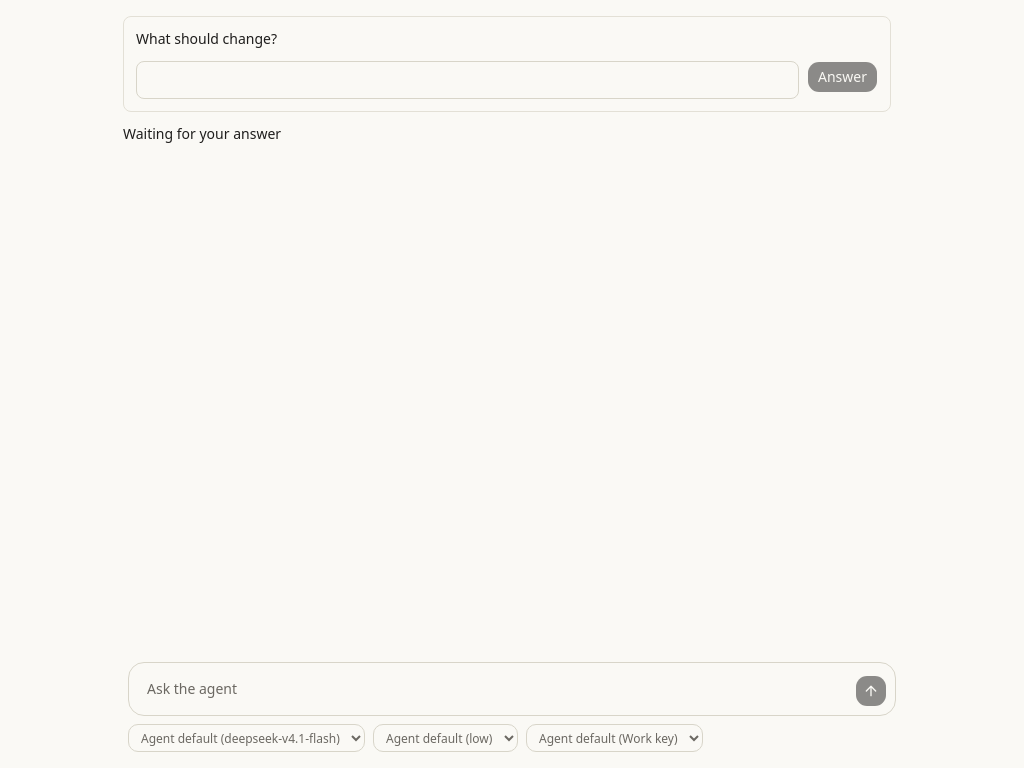
ChatPane › submits free text to the answer route and shows a send error inline
Expected: the text "What should change?" is shown, [136, 29, 277, 48]
Type "Keep the current behavior" into the field named "Your answer" at (468, 80), box [136, 61, 799, 99]
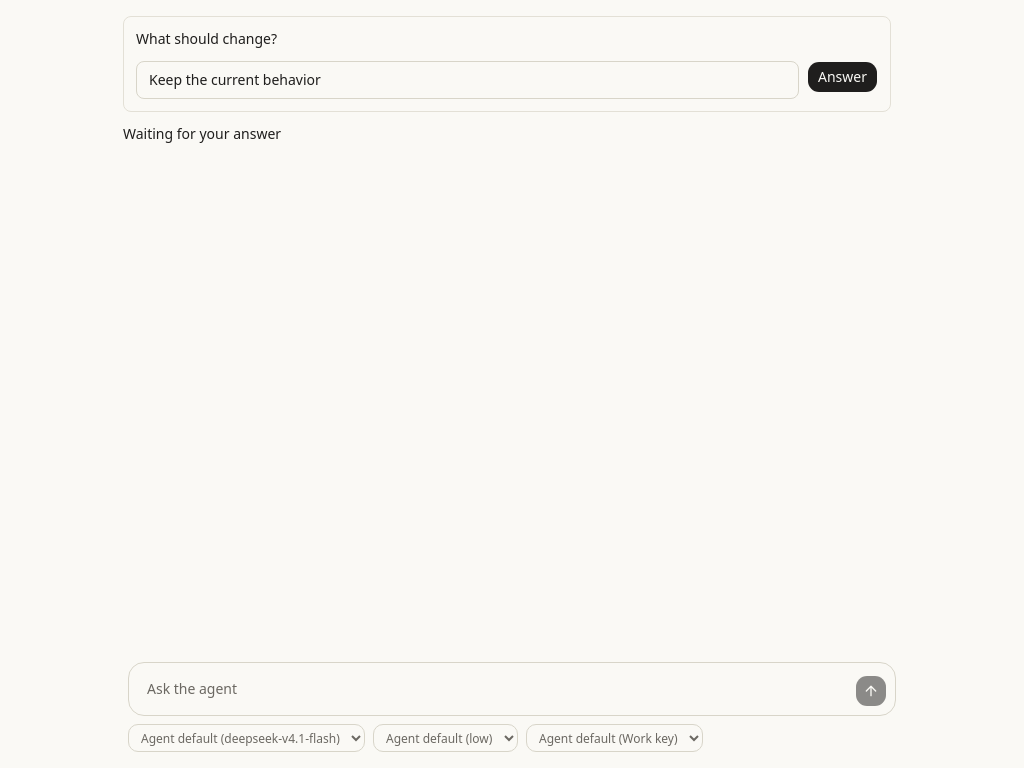
Click the button "Answer" at (842, 77), box [807, 61, 878, 93]
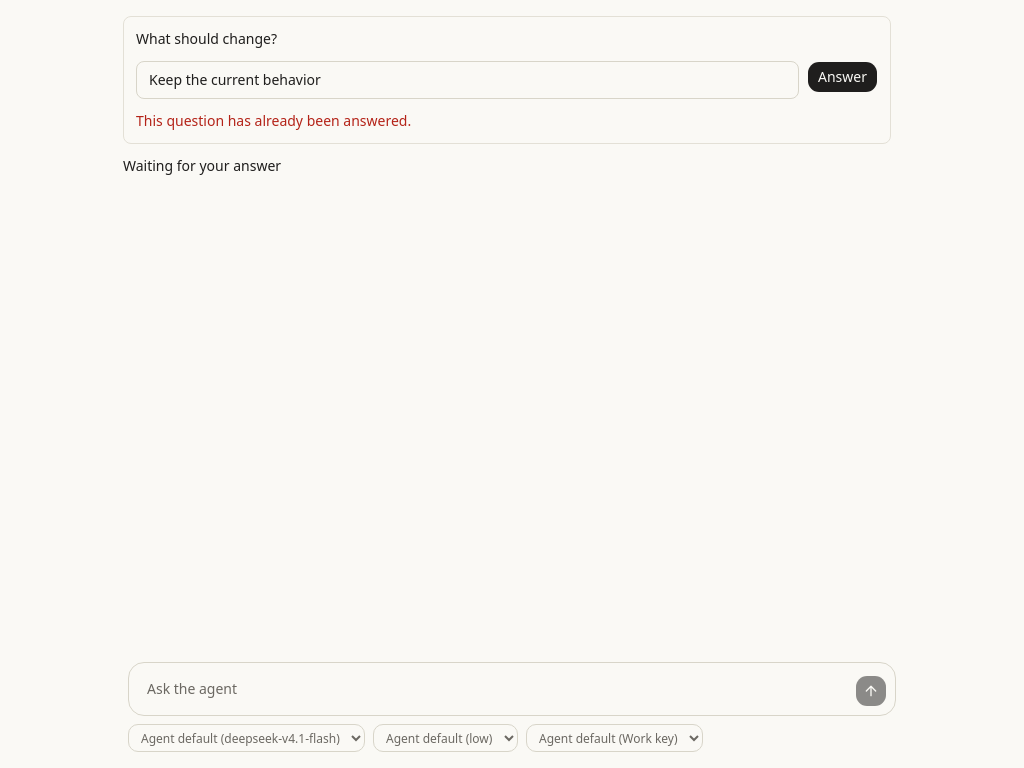
Expected: the message reads "This question has already been answered.", [136, 111, 411, 130]
